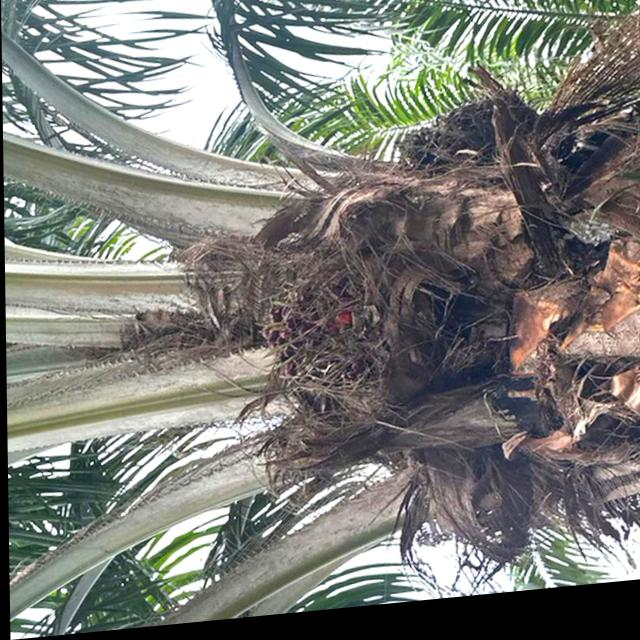ripe: (240, 237, 437, 443)
